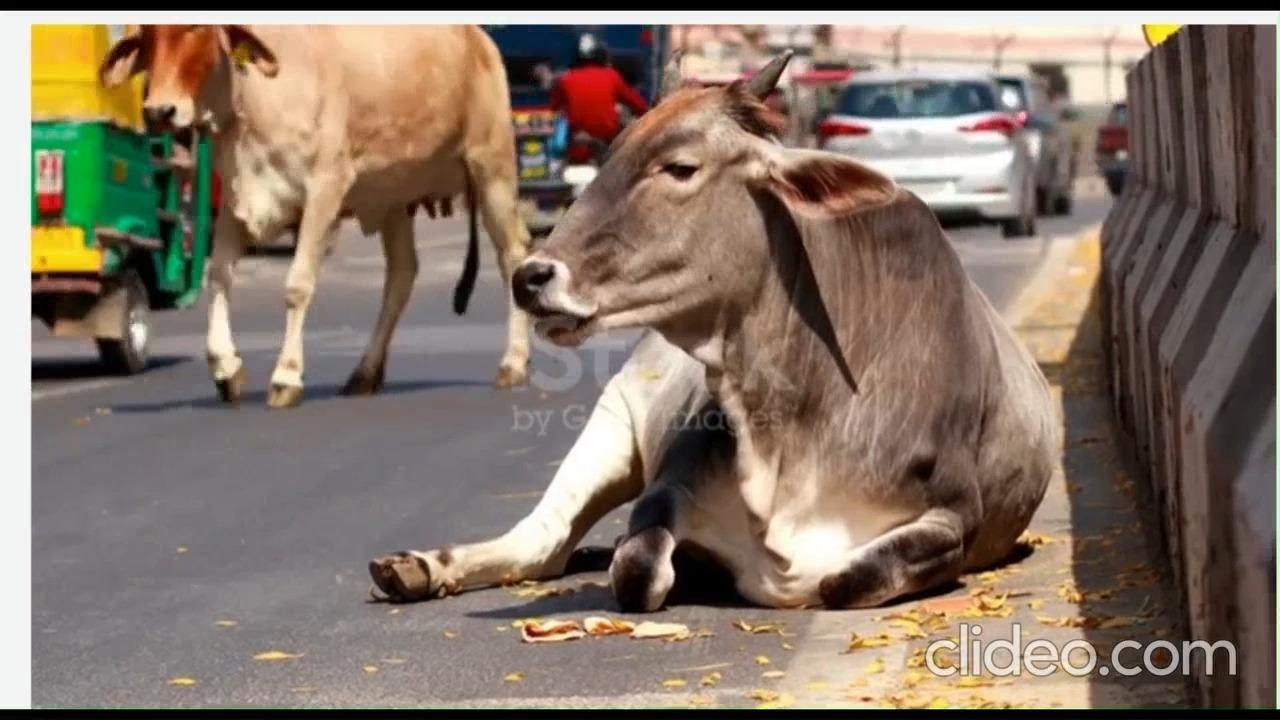Cow: (376, 40, 1064, 591), (97, 29, 530, 408)
